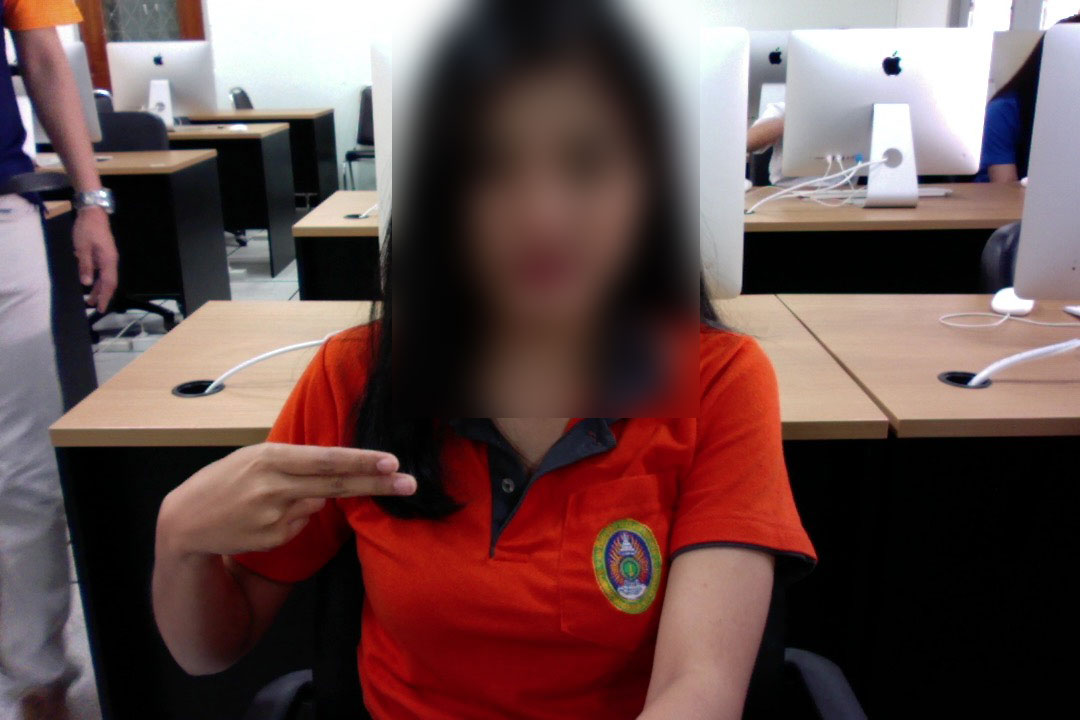hor: (141, 440, 431, 560)
